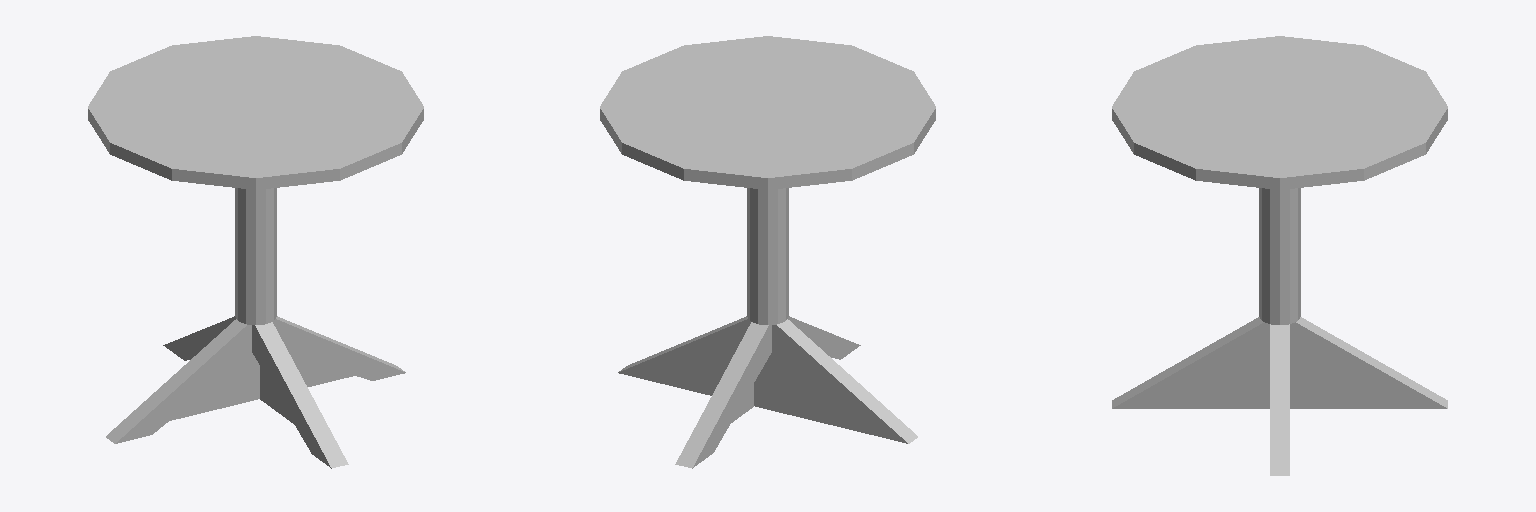
Rendered from small_table.obj.
The picture shows the model from 3 angles: view 1: azimuth 30°, elevation 25°; view 2: azimuth 150°, elevation 25°; view 3: azimuth 270°, elevation 25°; orthographic projection.
Bounding box in the file's own units: 1.02 × 0.995 × 1.02.